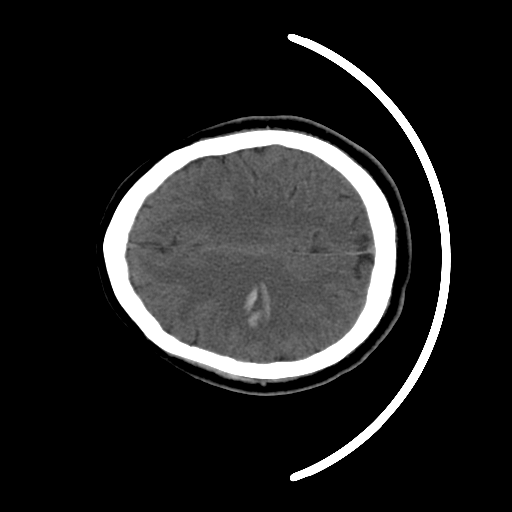a: (231, 270, 291, 346)
